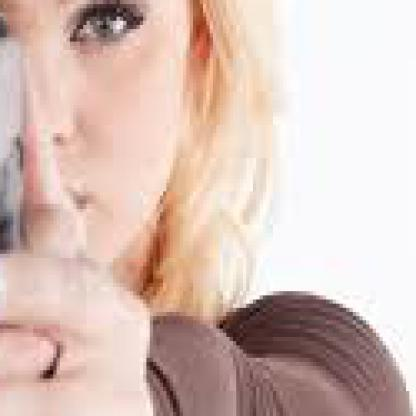gun: (0, 320, 373, 412)
